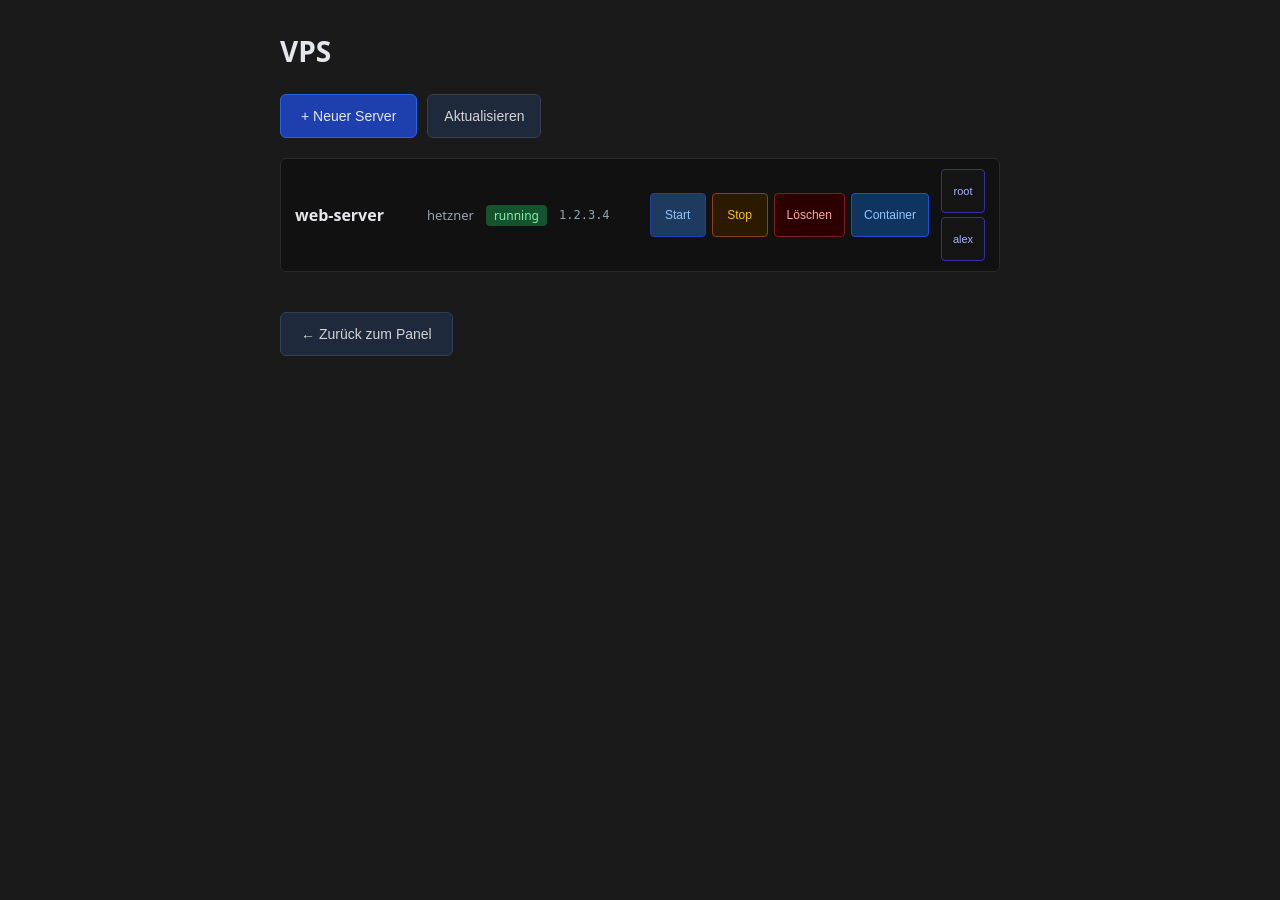
Test: VpsContainerScanButton — AC10: Klick öffnet Panel + sperrt Knopf › Klick startet den Scan (POST .../scan) und zeigt sofort "läuft"-Zustand
Click the button "Container": (890, 215) [851,193,929,237]
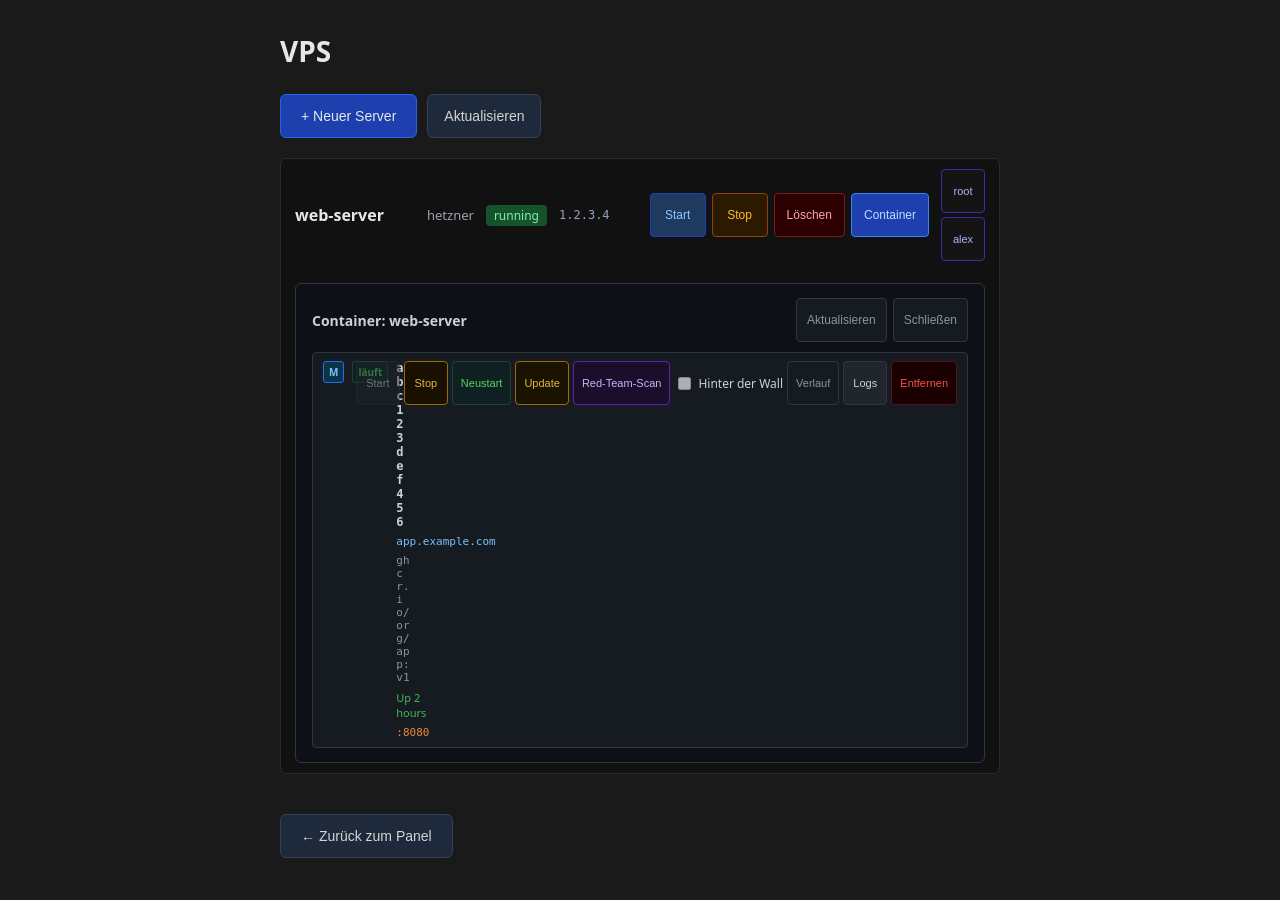
Result: the button with aria-label "red-team-scan für container abc123def456" is shown
Click the button with aria-label "red-team-scan für container abc123def456": (622, 383) [573,361,670,405]
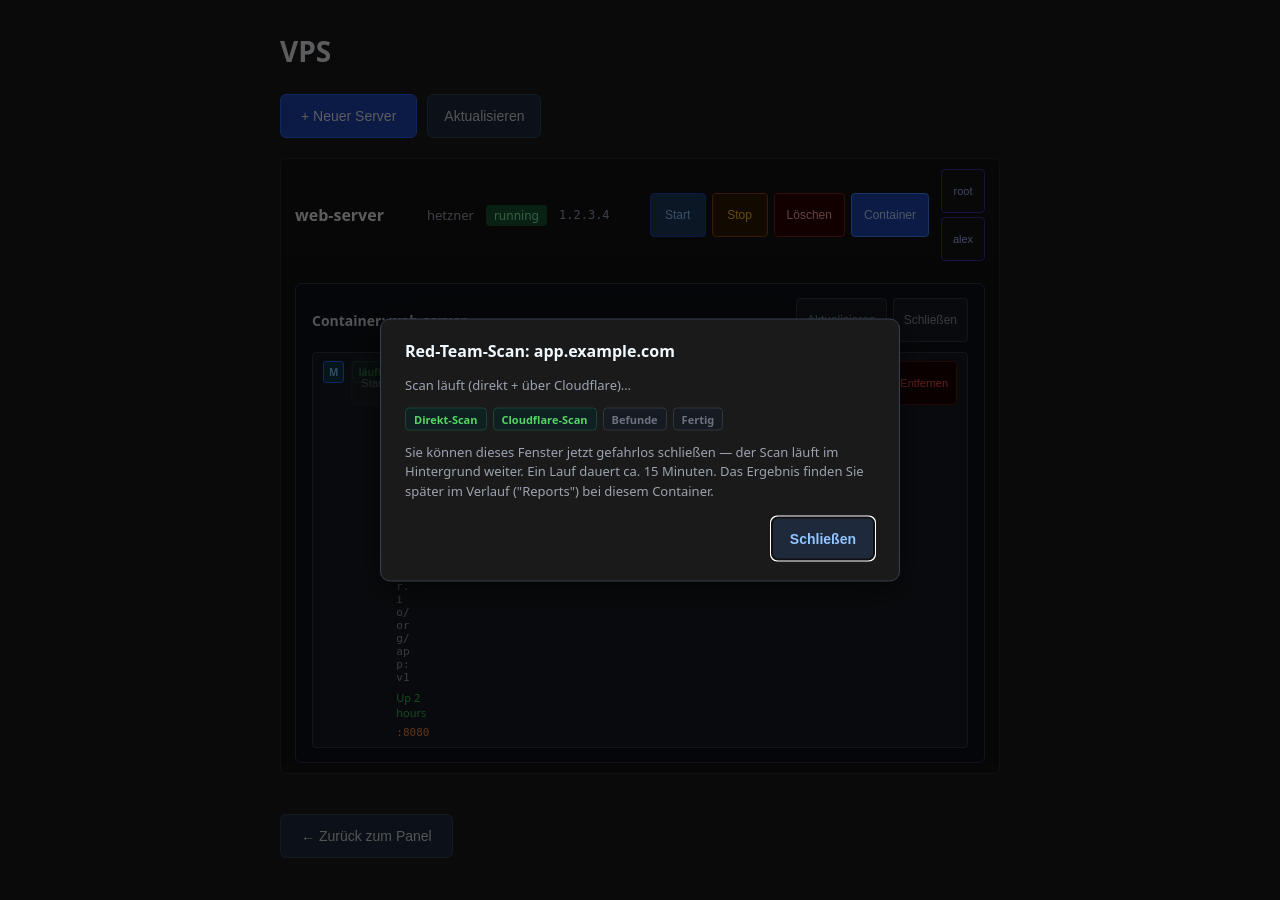
Result: the dialog with test id "redteam-scan-panel" is shown at [380,318,900,582]
Result: the button with aria-label "red-team-scan für container abc123def456" is disabled at [568,361,670,405]
Result: the button with aria-label "red-team-scan für container abc123def456" shows "Scan läuft" at [568,361,670,405]
